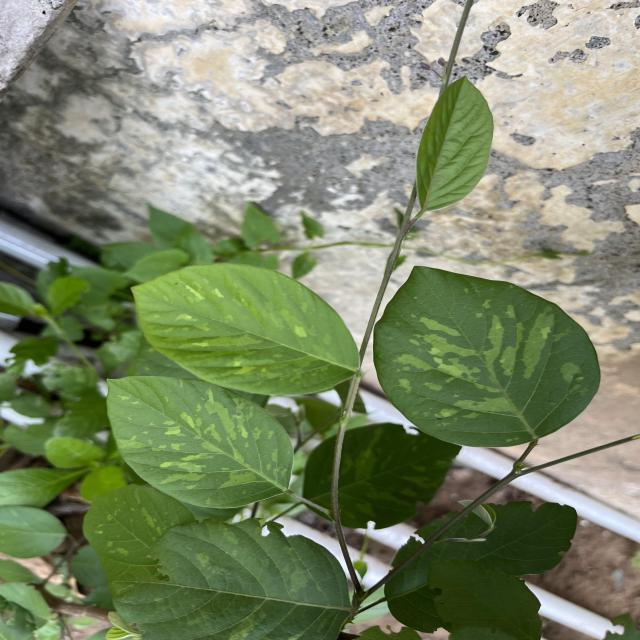Desmodium gangeticum: (371, 264, 603, 451), (102, 373, 295, 513)
